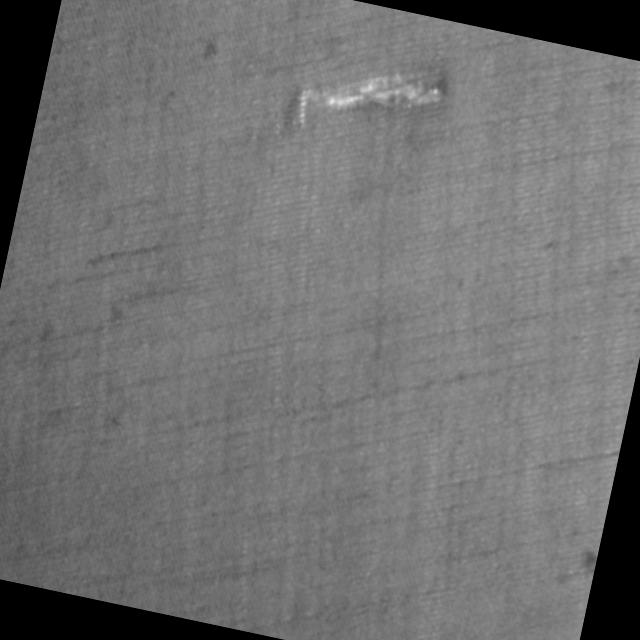hole: (278, 29, 456, 164)
